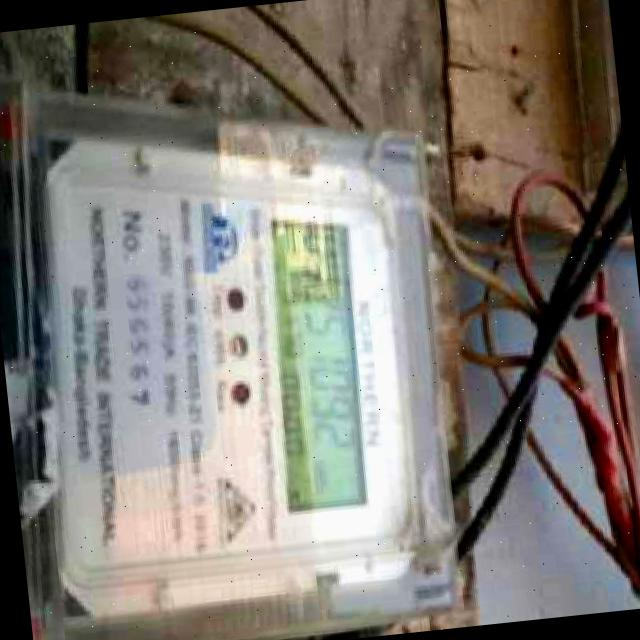LCD: (239, 208, 387, 526)
